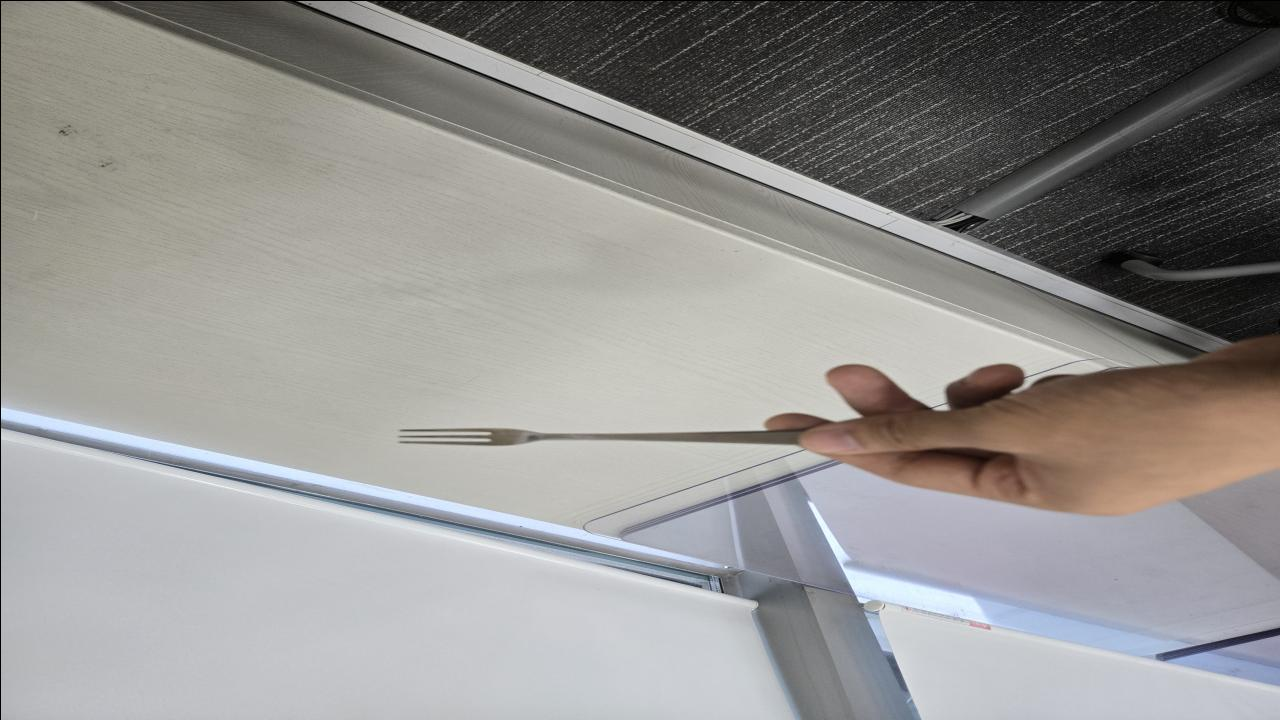fork: (398, 427, 800, 445)
